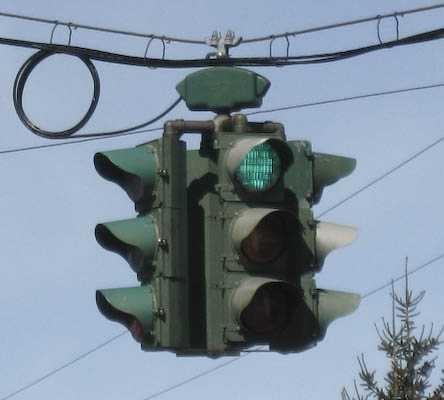green: (218, 125, 305, 349), (217, 131, 298, 203)
